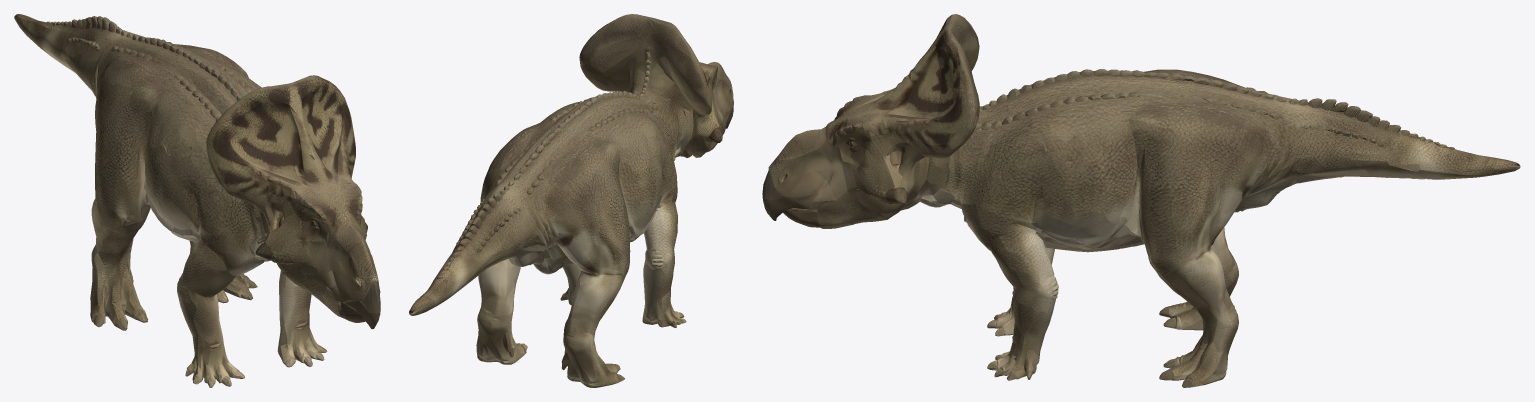
File: protoceratops_i2m_v1.glb
3 renders of one model, left to right at view 1: azimuth 30°, elevation 25°; view 2: azimuth 150°, elevation 25°; view 3: azimuth 270°, elevation 25°, orthographic. The views are drawn at different scales.
Parts seen in each view (by area): view 1: Mesh_0; view 2: Mesh_0; view 3: Mesh_0.
Boxes of the visible parts, <box> form: Mesh_0: <box>14,14,380,387</box>; Mesh_0: <box>409,14,733,387</box>; Mesh_0: <box>762,14,1520,387</box>.
Size of the model in its own units: 0.4894 by 0.8912 by 1.9.
Materials: 1 (1 with a texture image).
